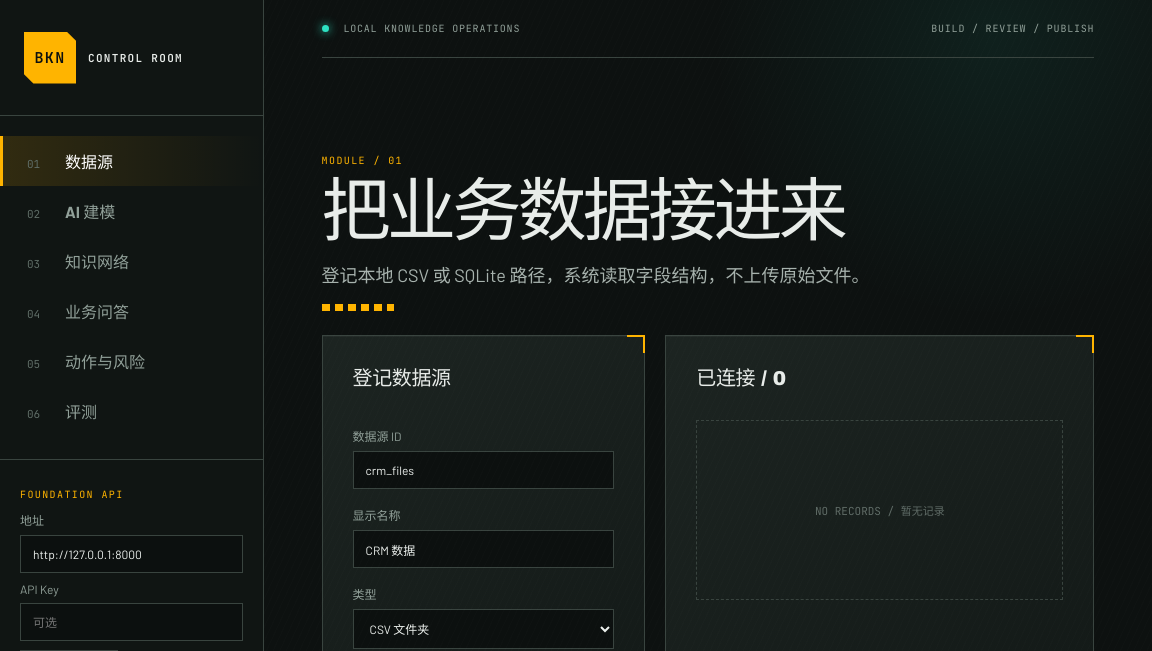
it: MiniBKN control room › surfaces backend errors and never invents an answer
This screenshot has width=1152, height=651.
Click the button "04 业务问答".
click(132, 311)  # box [0,286,263,336]
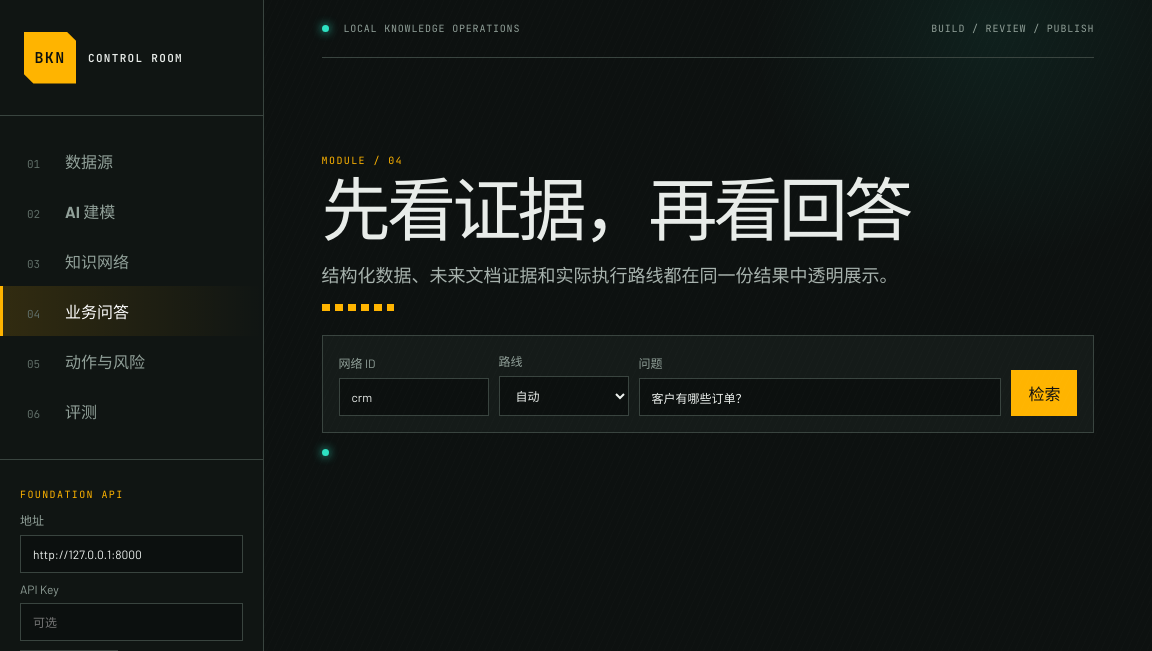
Click the button "检索".
click(1044, 393)  # box [1011,370,1077,416]
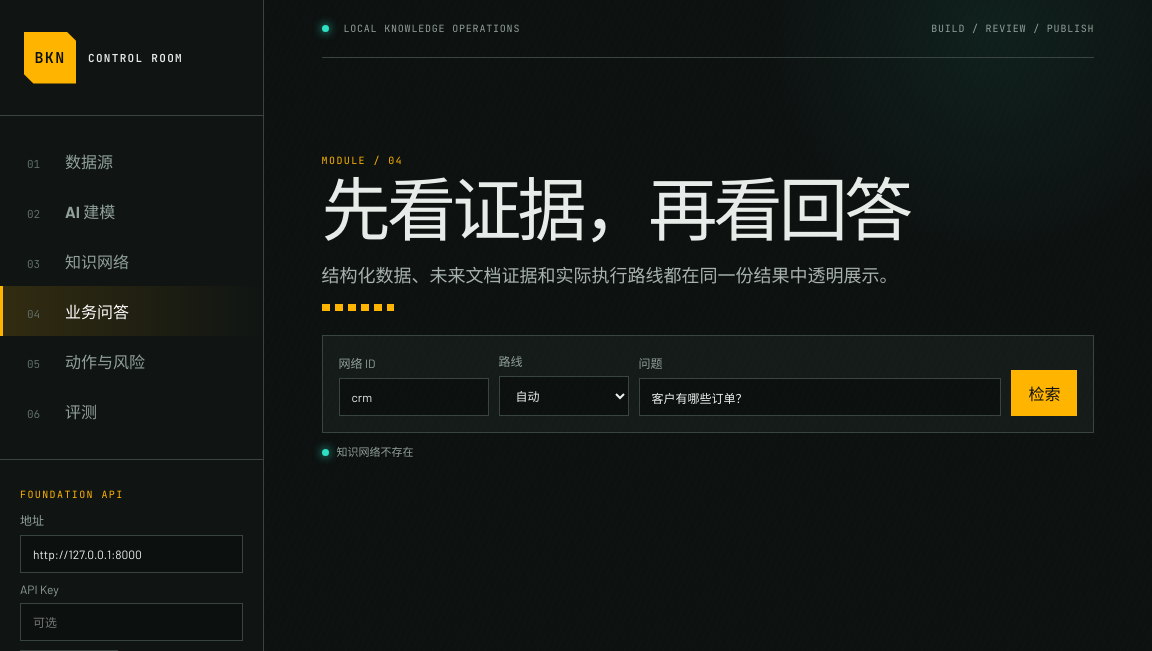
Expected: the text "知识网络不存在" is shown, [322,445,414,459]
